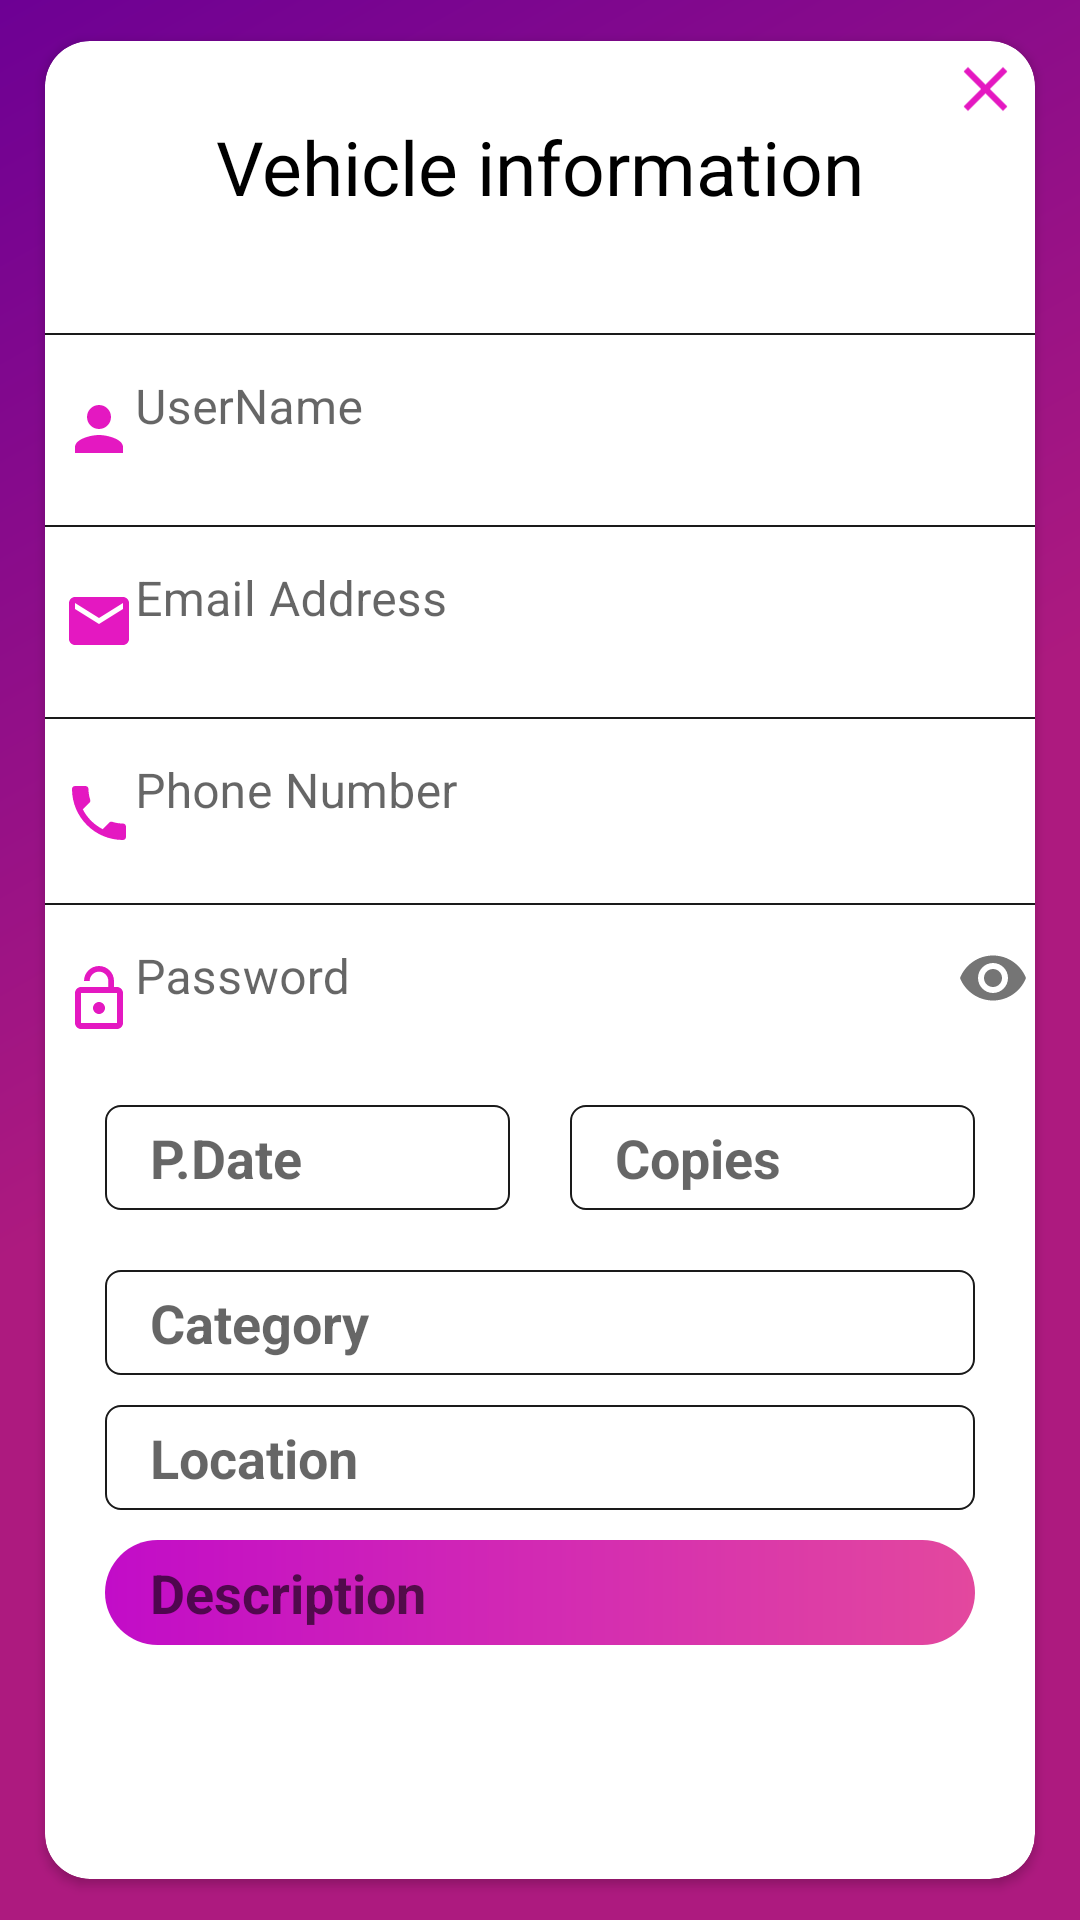

Icon click points for this 1080px x 1920px phone screenshot, format point (x, y):
close: point (985, 89)
